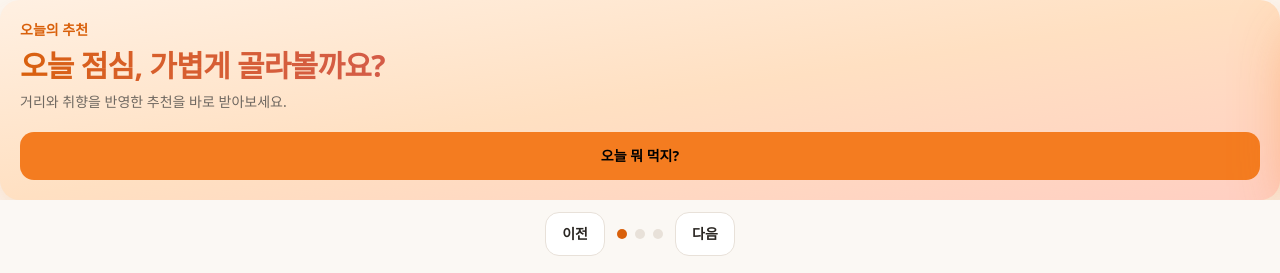
HomeHero › keeps recommendation first and shows an unsubmitted review on the next slide
This screenshot has width=1280, height=273.
expect the link "오늘 뭐 먹지?" is shown: met, box [20,132,1260,180]
expect the link "리뷰 남기기" is not shown: met
Click the button with aria-label "다음 Hero".
click(705, 234)  # box [675,212,735,256]
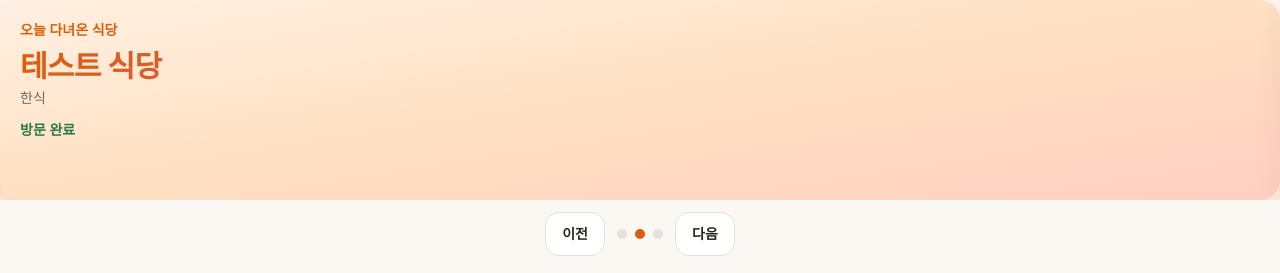
Click the button with aria-label "다음 Hero".
click(705, 234)  # box [675,212,735,256]
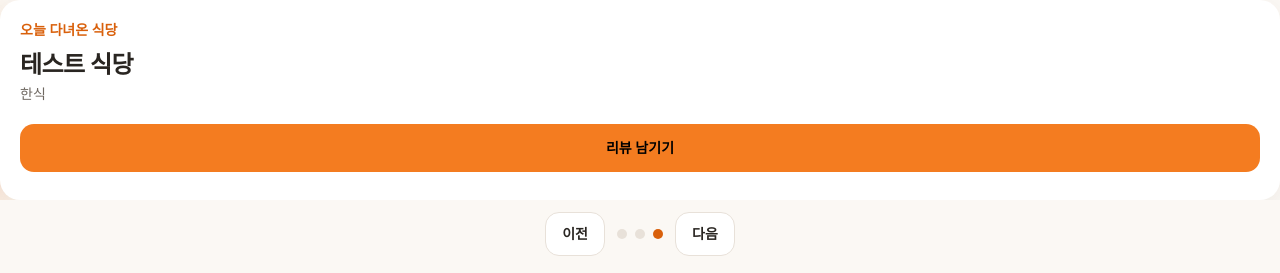
expect the link "리뷰 남기기" is shown: met, box [20,124,1260,172]
